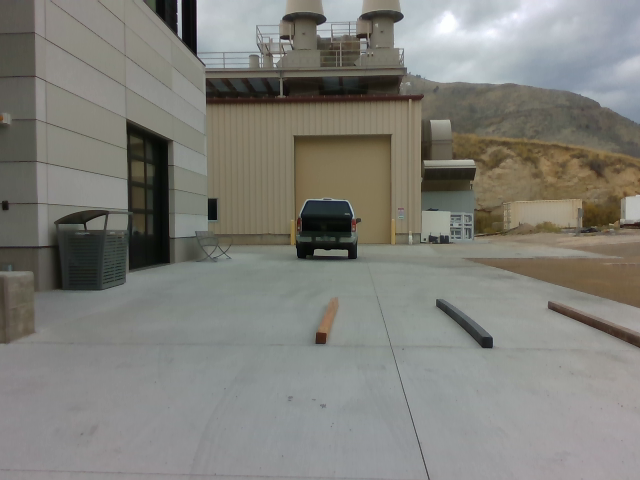dunnage: (312, 293, 640, 357)
